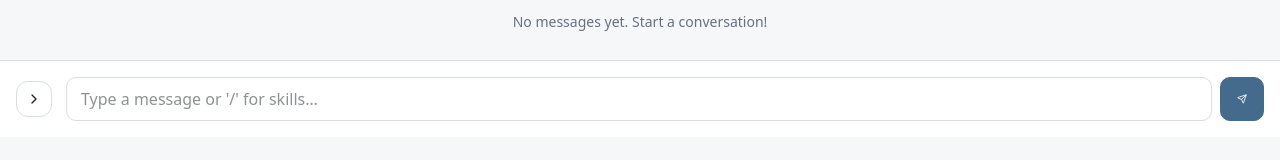
Test case: ChatField › automatically collapses the menu back to > when clicking or focusing on the textarea
Click the button named "Expand options" at (34, 99), box top-left (16, 81), bottom-right (52, 117)
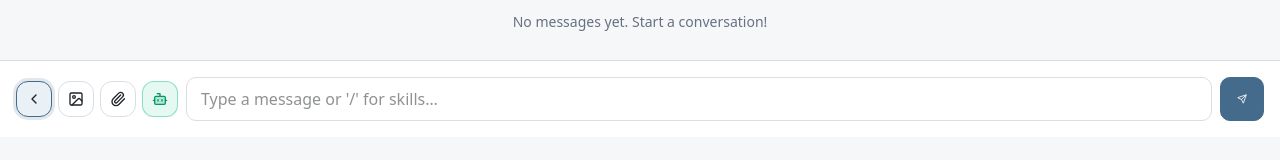
Now the button named "Expand options" is expanded, box top-left (16, 81), bottom-right (52, 117)
Note: Focus/click into textarea
Click the text box labelled "message" at (699, 99), box top-left (186, 77), bottom-right (1212, 121)
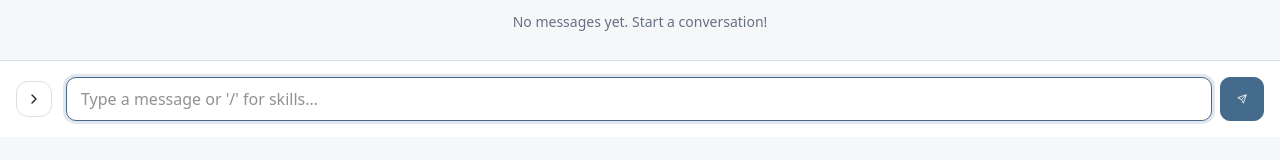
Now the button named "Expand options" is collapsed, box top-left (16, 81), bottom-right (52, 117)
